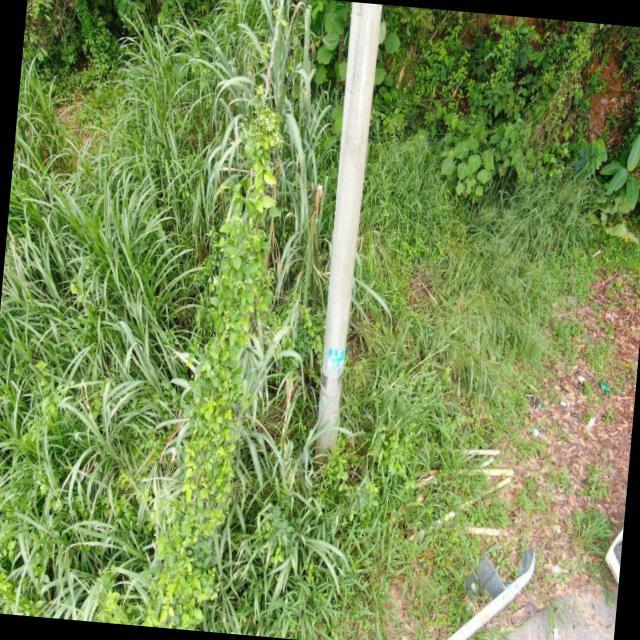critical vegetation: (144, 58, 289, 602)
